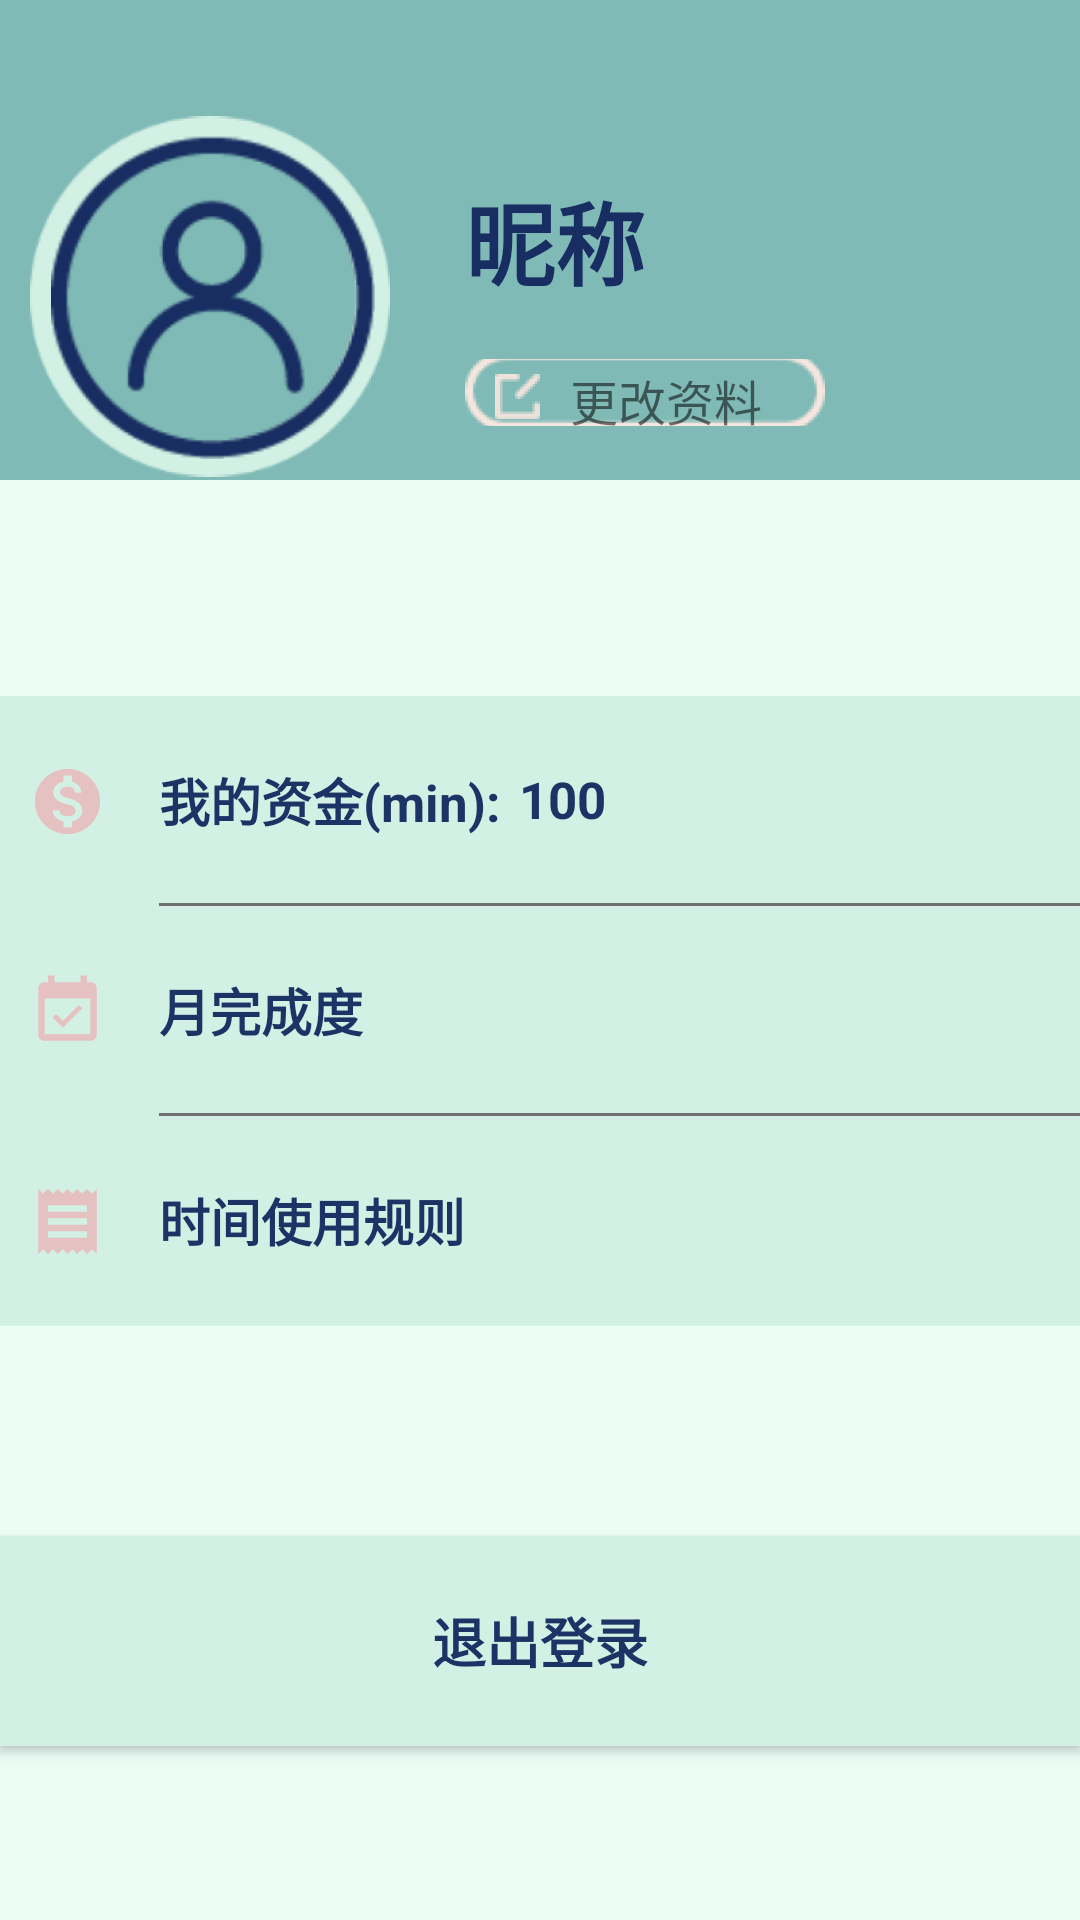

Named icons in this screenshot (1080×1920) and their bounding boxes, (x1, y1, x2, y2):
mine bill: (38, 1189, 97, 1254)
mine fund: (35, 769, 100, 834)
mine write: (495, 374, 540, 419)
